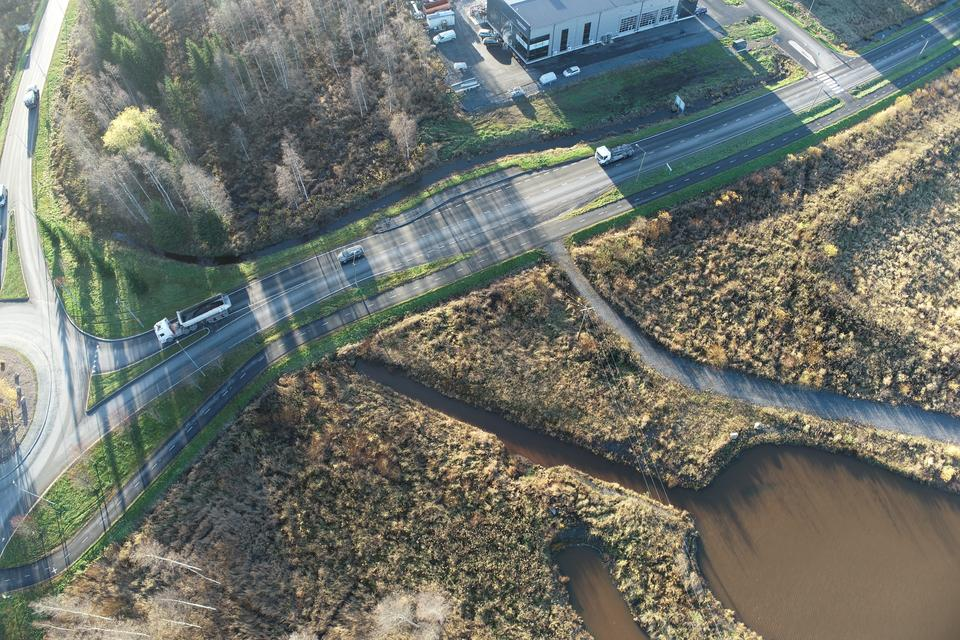intersection: (489, 139, 609, 284), (778, 38, 898, 162)
roundabout: (0, 149, 120, 599)
